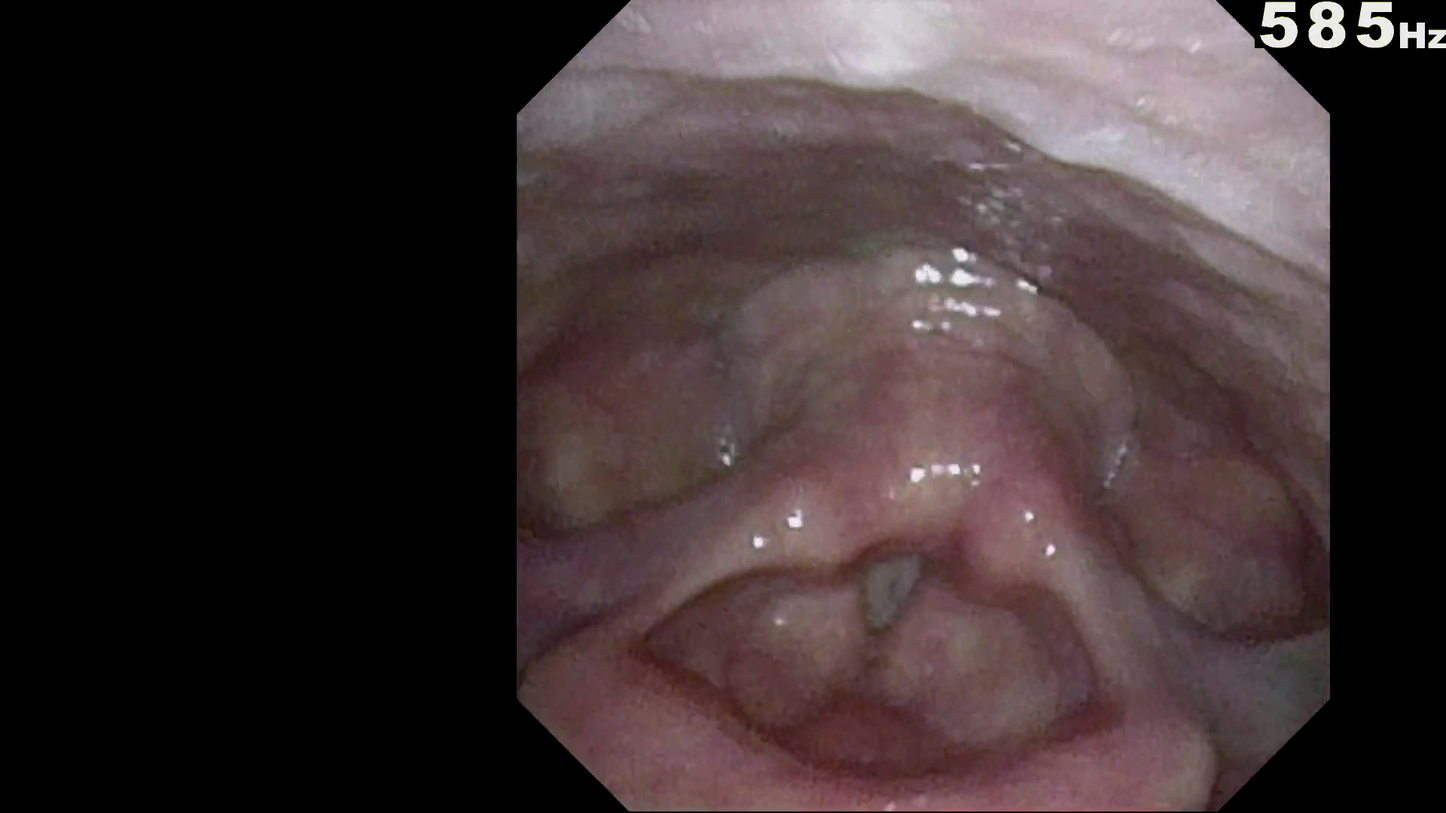epiglottis: (606, 588, 1224, 789)
trachea: (845, 500, 961, 634)
